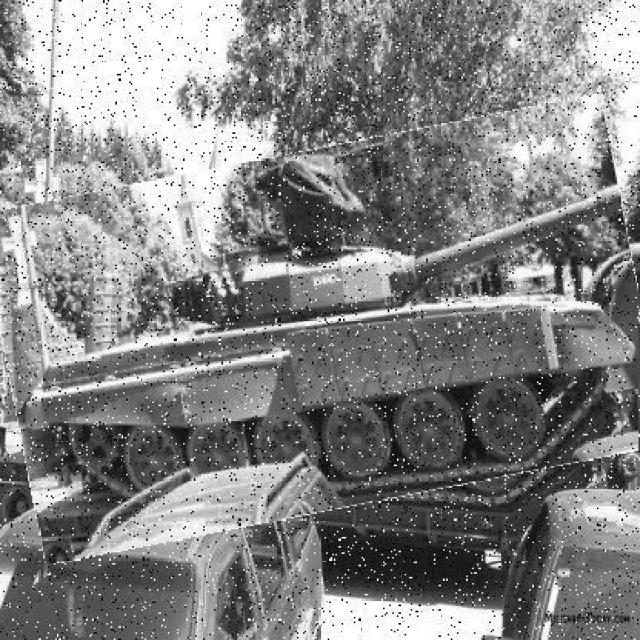Tank: (1, 122, 639, 537)
